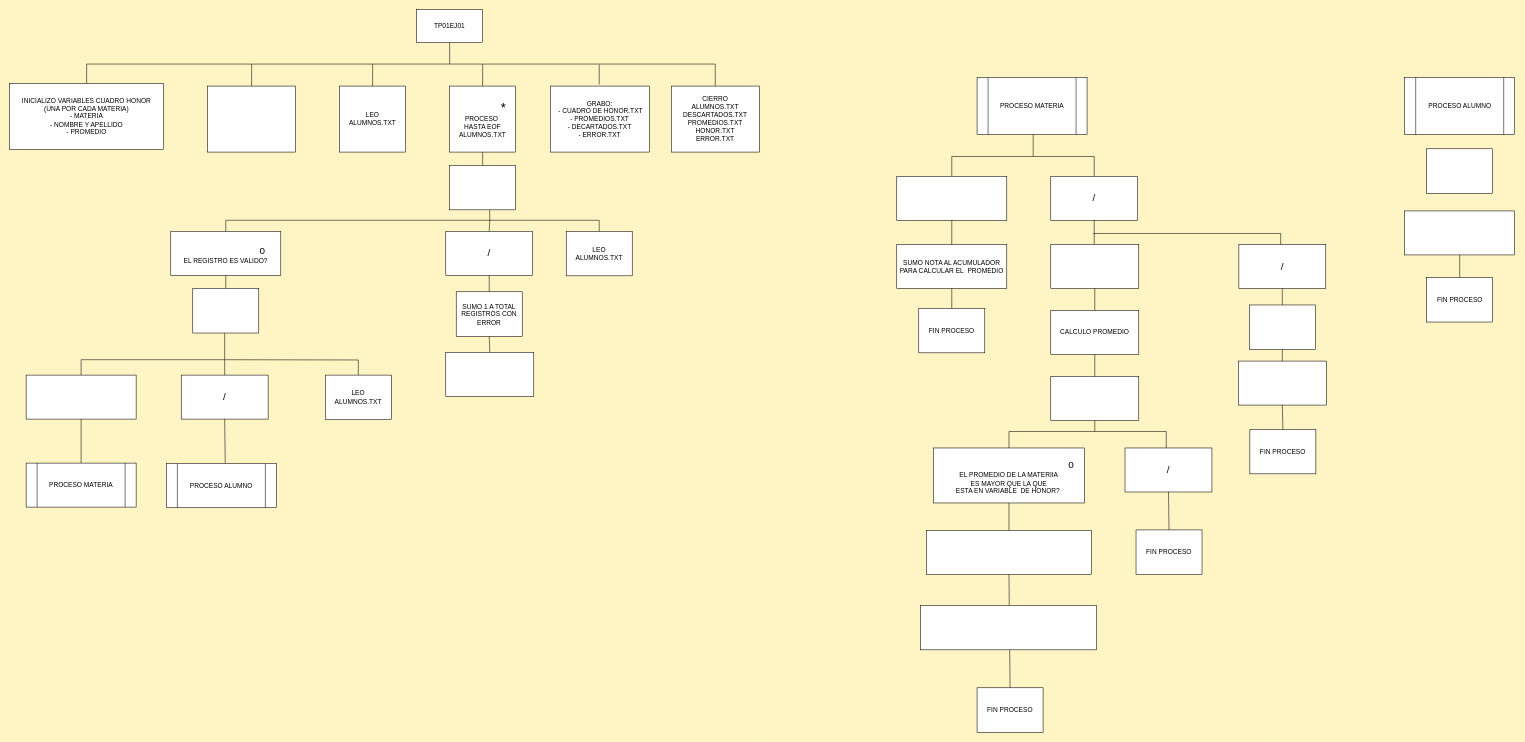
This 1525x742 diagram has some shape labels left out. The shapes that lost their labels are listed below. From the top down, each one's centre as x and y in pixels, then its label:
the point at 251,119: ABRO ALUMNOS.TXT DESCARTADOS.TXT PROMEDIOS.TXT HONOR.TXT ERROR.TXT
the point at 482,187: SUMO 1 A TOTAL REGISTROS LEIDOS
the point at 1459,170: PONGO EN CERO EL ACUMULADOR
the point at 951,198: 0 LA MATERIA ES LA MISMA?
the point at 1459,232: GRABO SEPARADOR EN LISTADO PROMEDIOS
the point at 1094,266: 0 TENGO 3 MATERIAS IGUALES?
the point at 225,310: SUMO 1 A TOTAL REGISTROS PROCESADOS
the point at 1282,327: SUMO 1 A TOTAL REGISTROS DESCARTADOS
the point at 489,374: GRABO REGISTRO ALUMNO EN ERROR.TXT
the point at 1282,383: GRABO REGISTRO ALUMNO EN DESCARTADOS.TXT
the point at 81,397: 0 EL ALUMNO ES EL MISMO?
the point at 1094,398: GRABO REGISTRO ALUMNO EN PROMEDIOS.TXT
the point at 1008,552: GRABO LA MATERIA, EL NOMBRE DEL ALUMNO, EL PROMEDIO EN VARIABLES DE HONOR
the point at 1008,627: PONGO EN CERO EL PROMEDIO CALCULADO
